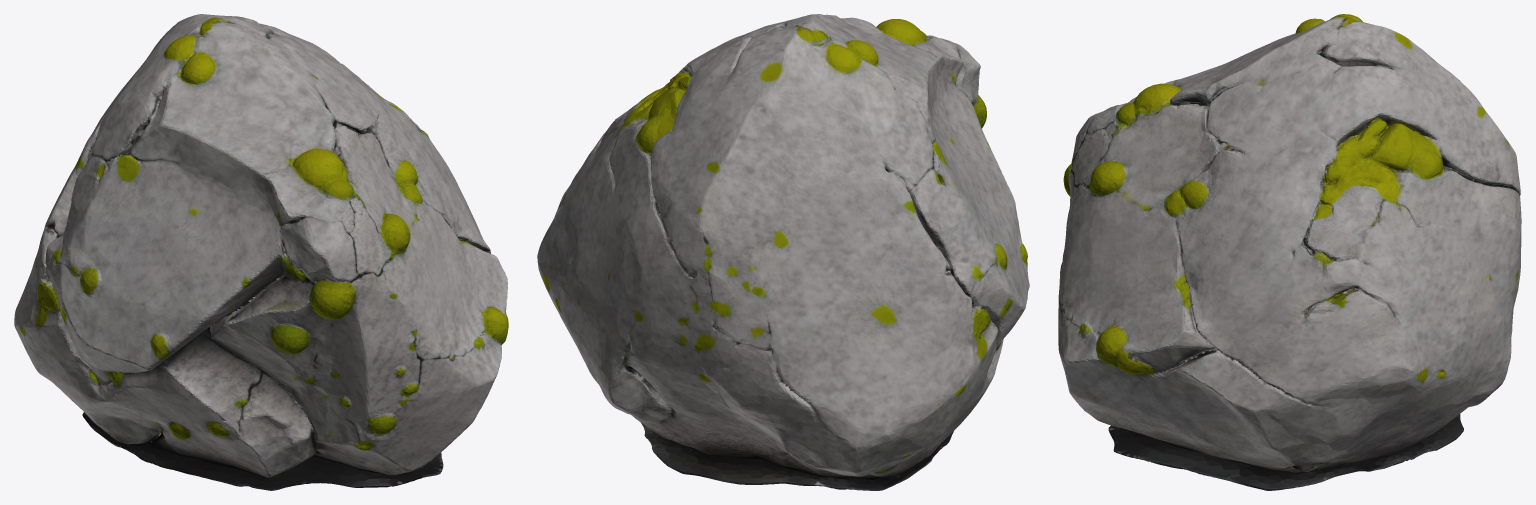
Rendered from rock.glb.
3 renders of one model, left to right at view 1: azimuth 30°, elevation 25°; view 2: azimuth 150°, elevation 25°; view 3: azimuth 270°, elevation 25°, orthographic. The views are drawn at different scales.
Visible parts, largest first — view 1: textured_mesh.obj; view 2: textured_mesh.obj; view 3: textured_mesh.obj.
Part boxes in pixels (x1,y1,x2,y2): textured_mesh.obj: [14, 14, 508, 490]; textured_mesh.obj: [537, 14, 1029, 490]; textured_mesh.obj: [1058, 14, 1521, 490].
Bounding box in the file's own units: 1.99 × 1.81 × 1.97.
Materials: 1 (1 with a texture image).
